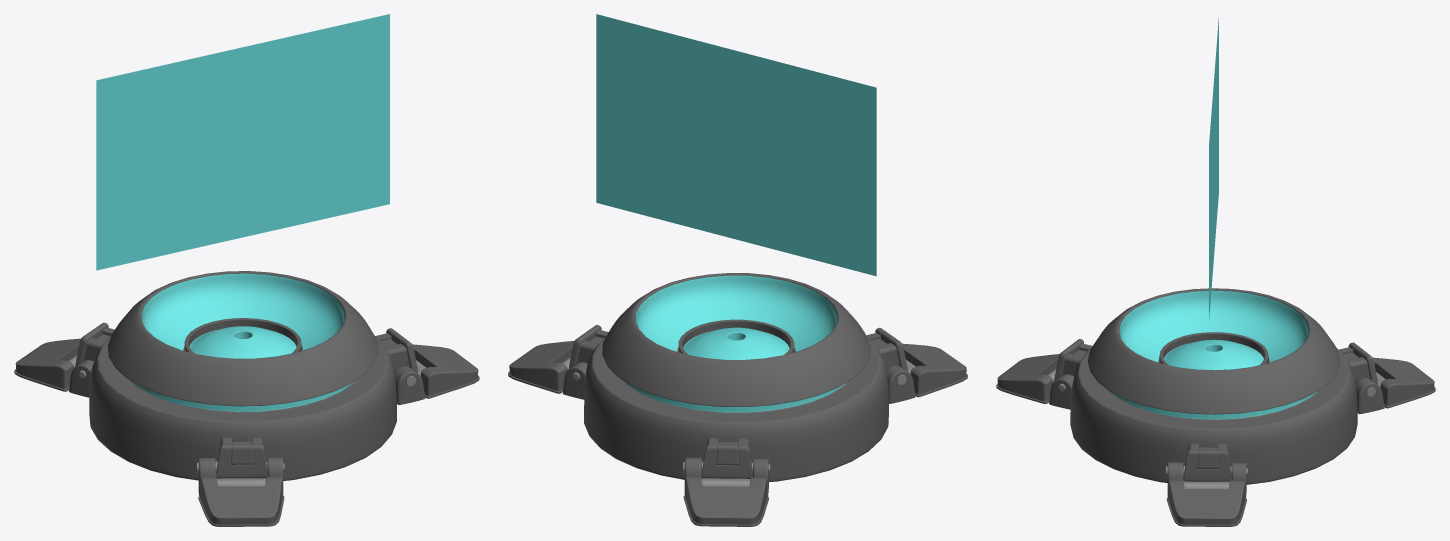
The model's file is HologramDev.fbx.
3 renders of one model, left to right at view 1: azimuth 30°, elevation 25°; view 2: azimuth 150°, elevation 25°; view 3: azimuth 270°, elevation 25°, orthographic. The views are drawn at different scales.
Parts seen in each view (by area): view 1: polySurface27; view 2: polySurface27; view 3: polySurface27.
Part boxes in pixels (box(x1,y1,x2,y2)): polySurface27: box(14, 14, 479, 526); polySurface27: box(508, 14, 967, 526); polySurface27: box(996, 17, 1435, 526).
Bounding box in the file's own units: 46.34 × 45.25 × 51.89.
